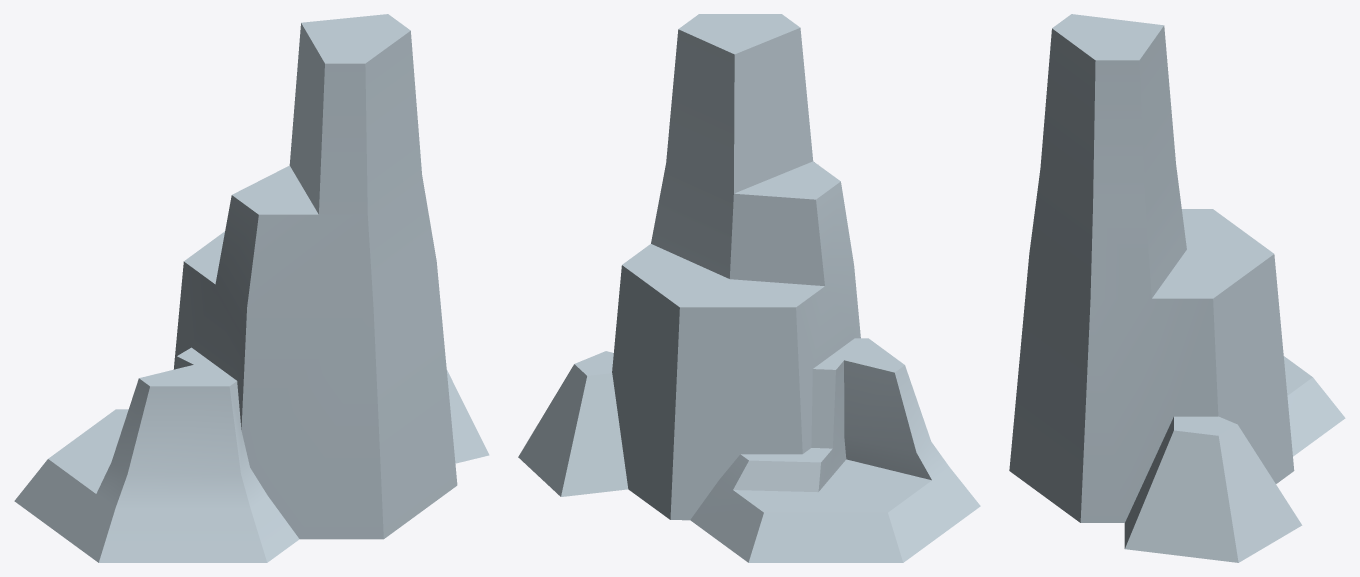
The model's file is formation-large-stone.glb.
3 renders of one model, left to right at view 1: azimuth 30°, elevation 25°; view 2: azimuth 150°, elevation 25°; view 3: azimuth 270°, elevation 25°, orthographic. The views are drawn at different scales.
Visible parts, largest first — view 1: formationLarge_stone; view 2: formationLarge_stone; view 3: formationLarge_stone.
Boxes of the visible parts, x1,y1,x2,y2 form: formationLarge_stone: [14, 14, 489, 562]; formationLarge_stone: [518, 14, 980, 562]; formationLarge_stone: [1009, 14, 1345, 562].
Size of the model in its own units: 1.36 by 1.38 by 0.9467.
